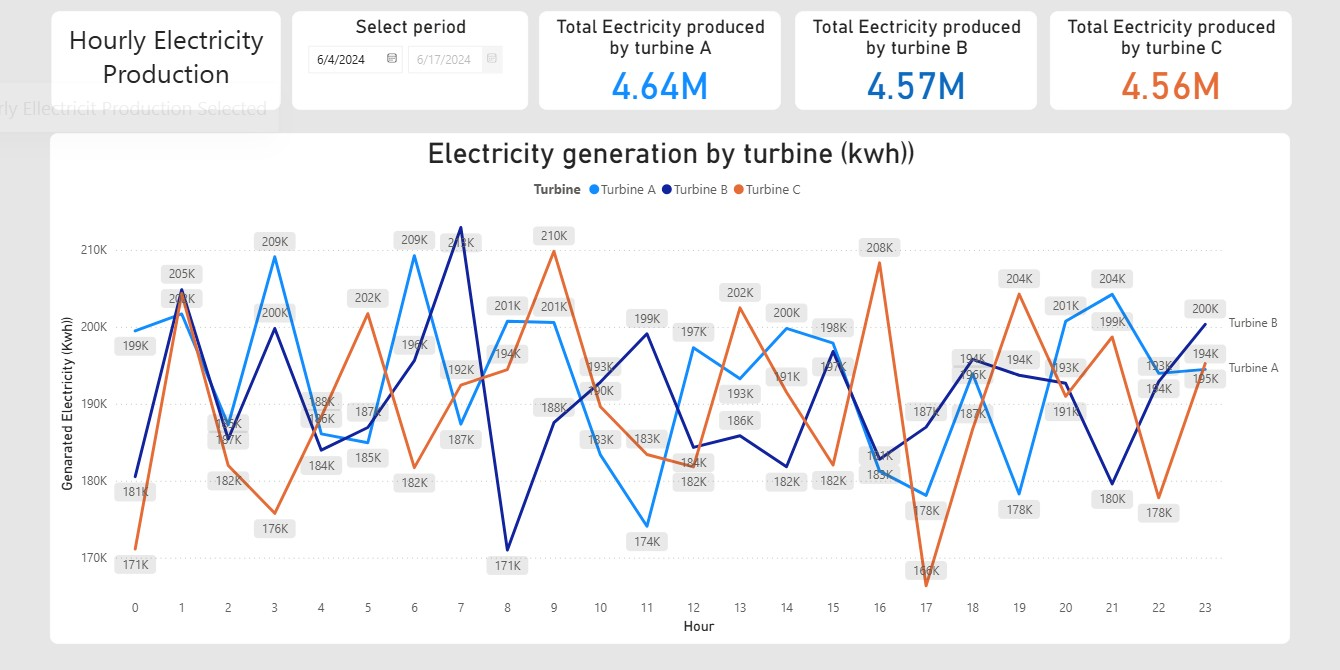

This screenshot's page, from the dashboard's own definition file:
{"tool":"powerbi","page":{"name":"Hourly Ellectricit Production","canvas":[1280,720],"ordinal":1},"visuals":[{"type":"lineChart","title":"Electricity generation by turbine (kwh))","fields":{"Category":["dim_time.hour_of_day"],"Y":["Sum(fact_wind_power_production.energy_produced)"],"Series":["dim_turbine.turbine_name"]},"box":[11.4,144,1257.8,517.7],"z":0},{"type":"card","title":"Total Eectricity produced by turbine A","fields":{"Values":["Sum(fact_wind_power_production.energy_produced)"]},"box":[507.7,20,245.3,99.8],"z":1000},{"type":"card","title":"Total Eectricity produced by turbine B","fields":{"Values":["Sum(fact_wind_power_production.energy_produced)"]},"box":[767.2,20,245.3,99.8],"z":2000},{"type":"card","title":"Total Eectricity produced by turbine C","fields":{"Values":["Sum(fact_wind_power_production.energy_produced)"]},"box":[1025.3,20,245.3,99.8],"z":3000},{"type":"slicer","title":"Select period","fields":{"Values":["fact_wind_power_production.date_id"]},"box":[256.7,20,239.6,99.8],"z":4000},{"type":"textbox","box":[12.8,20,232.4,99.8],"z":5000}]}

Visuals, with their boxes on the page's 1280x720 design canvas (x1, y1, x2, y2). These are canvas units, not pixel positions in the 1340x670 screenshot, which may show the page scaled, cropped or inside an application window:
"Electricity generation by turbine (kwh))" lineChart: (11, 144, 1269, 662)
"Total Eectricity produced by turbine A" card: (508, 20, 753, 120)
"Total Eectricity produced by turbine B" card: (767, 20, 1012, 120)
"Total Eectricity produced by turbine C" card: (1025, 20, 1271, 120)
"Select period" slicer: (257, 20, 496, 120)
textbox: (13, 20, 245, 120)
